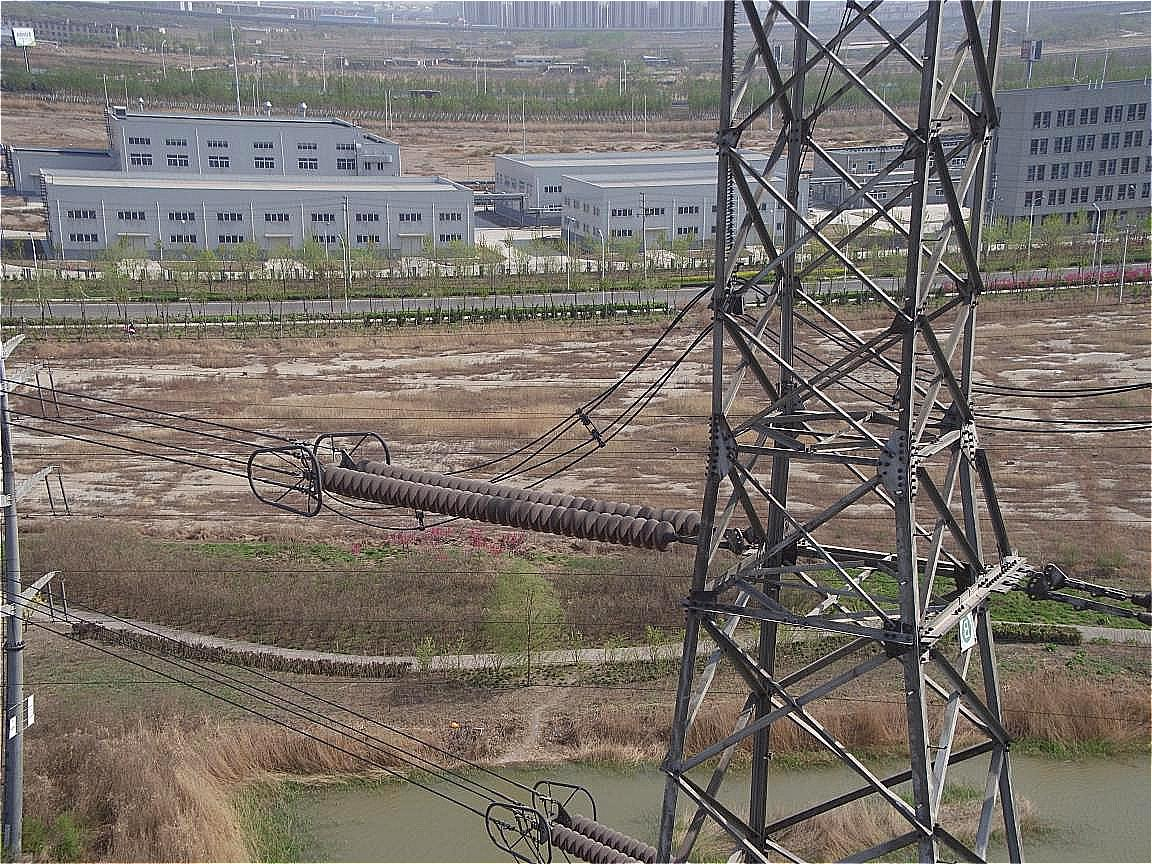insultor1: (305, 448, 727, 562)
